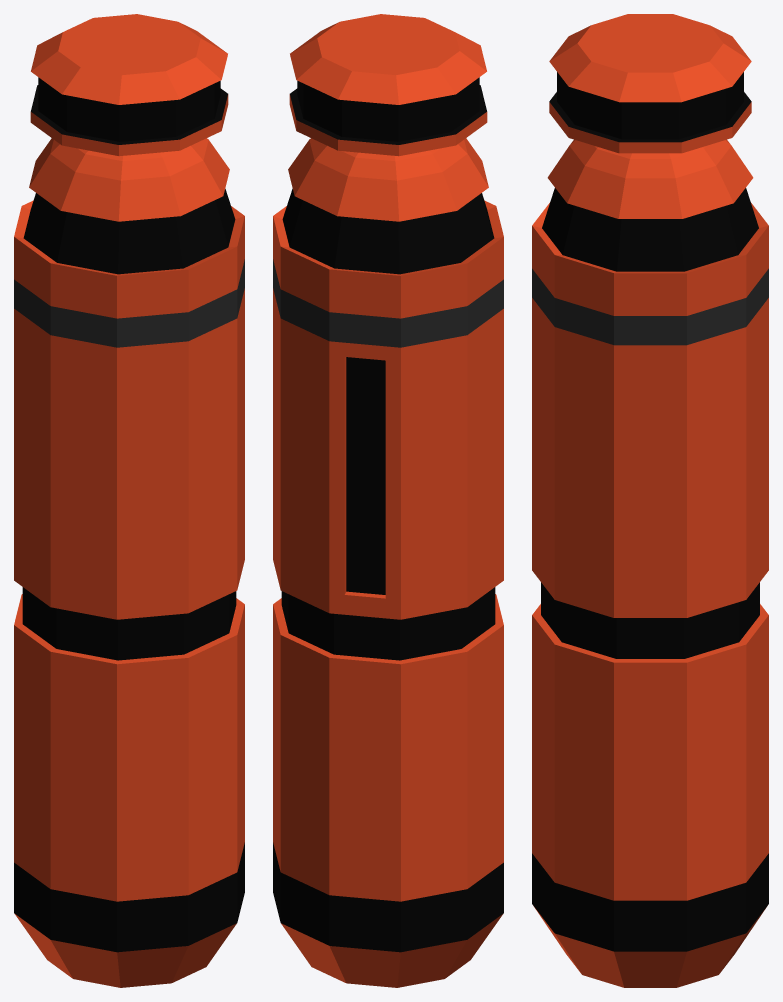
The model's file is fire extinguisher.fbx.
3 renders of one model, left to right at view 1: azimuth 30°, elevation 25°; view 2: azimuth 150°, elevation 25°; view 3: azimuth 270°, elevation 25°, orthographic.
Parts seen in each view (by area): view 1: fire exting; view 2: fire exting; view 3: fire exting.
Part boxes in pixels (box(x1,y1,x2,y2)): fire exting: box(14, 14, 244, 987); fire exting: box(273, 14, 503, 987); fire exting: box(532, 14, 768, 987).
Bounding box in the file's own units: 32 × 143 × 33.64.
